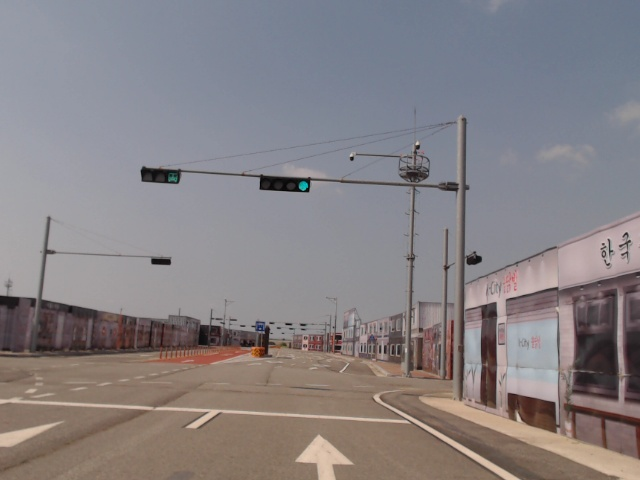straight_green_4: (259, 174, 311, 193)
